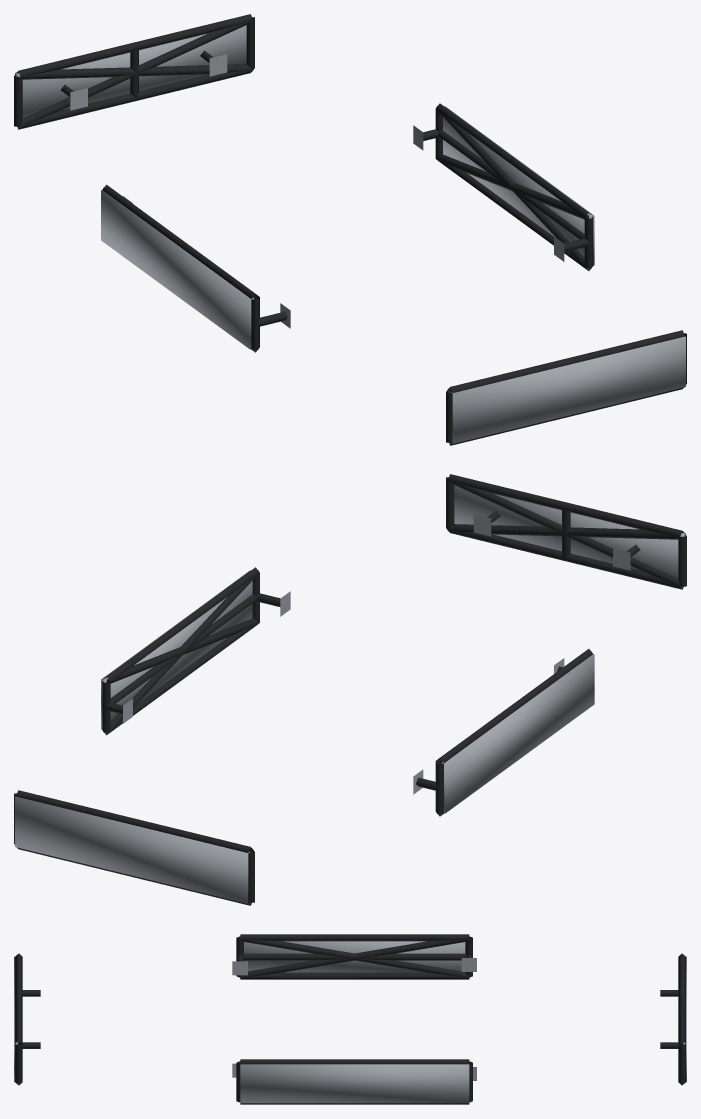
File: ishigumo_matagal_protecao.glb
The picture shows the model from 3 angles, top to bottom: view 1: azimuth 30°, elevation 25°; view 2: azimuth 150°, elevation 25°; view 3: azimuth 270°, elevation 25°; orthographic projection. The views are drawn at different scales.
Parts seen in each view (by area): view 1: Protection_front_Level3_Details, Protection_left_Level3_Details, Protection_rear_Level1_Details, Protection_rear_Level3_Details, Protection_right_Level1_Details, Protection_rear_Level2_Details, Protection_right_Level2_Details, Protection_right_Level3_Details, Protection_front_Level1_Details, Protection_left_Level1_Details; view 2: Protection_rear_Level3_Details, Protection_left_Level3_Details, Protection_front_Level1_Details, Protection_front_Level3_Details, Protection_right_Level1_Details, Protection_front_Level2_Details, Protection_right_Level2_Details, Protection_right_Level3_Details, Protection_rear_Level1_Details, Protection_left_Level1_Details; view 3: Protection_right_Level3_Details, Protection_left_Level2_Details, Protection_left_Level1_Details, Protection_left_Level3_Details, Protection_right_Level1_Details, Protection_rear_Level1_Details, Protection_front_Level1_Details.
Part boxes in pixels (x1,y1,x2,y2): Protection_front_Level3_Details: (451,336,685,443); Protection_left_Level3_Details: (101,190,253,349); Protection_rear_Level1_Details: (14,14,254,129); Protection_rear_Level3_Details: (15,25,246,118); Protection_right_Level1_Details: (413,103,593,270); Protection_rear_Level2_Details: (16,20,252,128); Protection_right_Level2_Details: (436,109,592,270); Protection_right_Level3_Details: (443,106,594,265); Protection_front_Level1_Details: (446,330,686,445); Protection_left_Level1_Details: (102,184,290,352); Protection_rear_Level3_Details: (15,796,249,903); Protection_left_Level3_Details: (441,654,594,813); Protection_front_Level1_Details: (446,474,686,589); Protection_front_Level3_Details: (454,485,685,578); Protection_right_Level1_Details: (102,567,290,735); Protection_front_Level2_Details: (448,480,684,588); Protection_right_Level2_Details: (103,573,259,734); Protection_right_Level3_Details: (101,570,252,729); Protection_rear_Level1_Details: (14,790,254,905); Protection_left_Level1_Details: (413,649,592,816); Protection_right_Level3_Details: (240,1064,469,1103); Protection_left_Level2_Details: (240,936,469,977); Protection_left_Level1_Details: (232,934,476,979); Protection_left_Level3_Details: (244,941,465,972); Protection_right_Level1_Details: (232,1059,476,1104); Protection_rear_Level1_Details: (660,953,685,1085); Protection_front_Level1_Details: (15,953,40,1085).
Size of the model in its own units: 2.16 by 0.354 by 4.76.
1 material, 1 textured.
